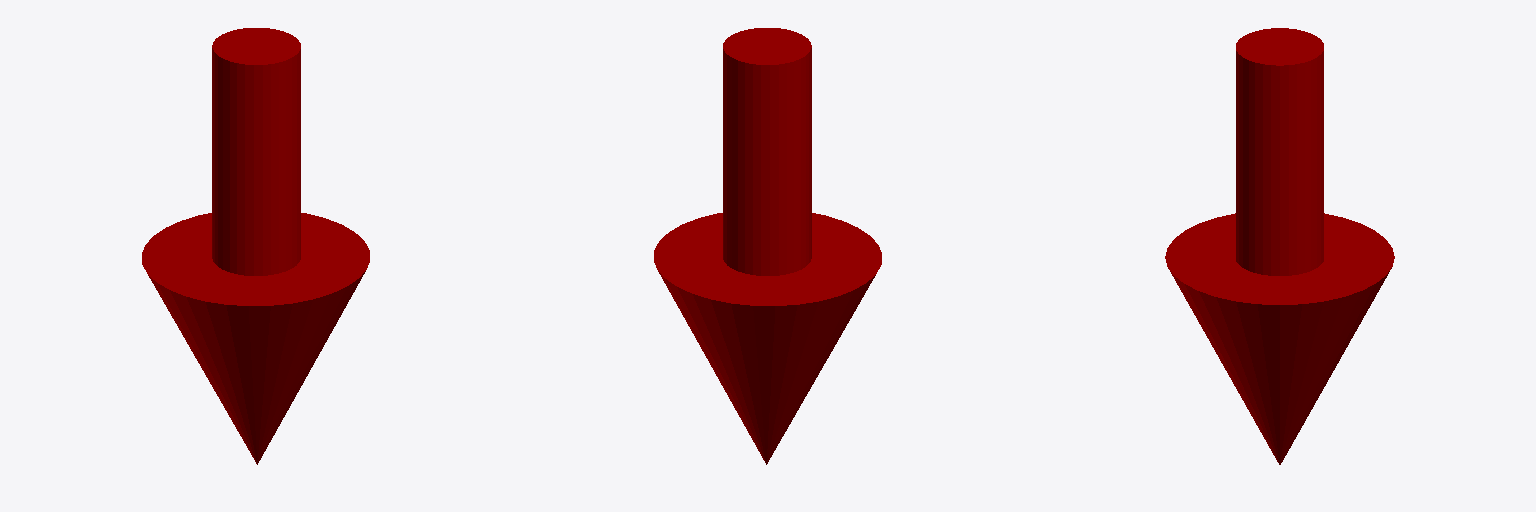
Rendered from arrow.obj.
3 renders of one model, left to right at view 1: azimuth 30°, elevation 25°; view 2: azimuth 150°, elevation 25°; view 3: azimuth 270°, elevation 25°, orthographic.
Parts seen in each view (by area): view 1: Cone, Cylinder; view 2: Cone, Cylinder; view 3: Cone, Cylinder.
Part boxes in pixels (x1,y1,x2,y2): Cone: (142, 213, 369, 464); Cylinder: (212, 28, 300, 275); Cone: (654, 213, 881, 464); Cylinder: (723, 28, 811, 275); Cone: (1165, 213, 1394, 464); Cylinder: (1236, 28, 1323, 275).
Size of the model in its own units: 0.8144 by 1.64 by 0.8144.